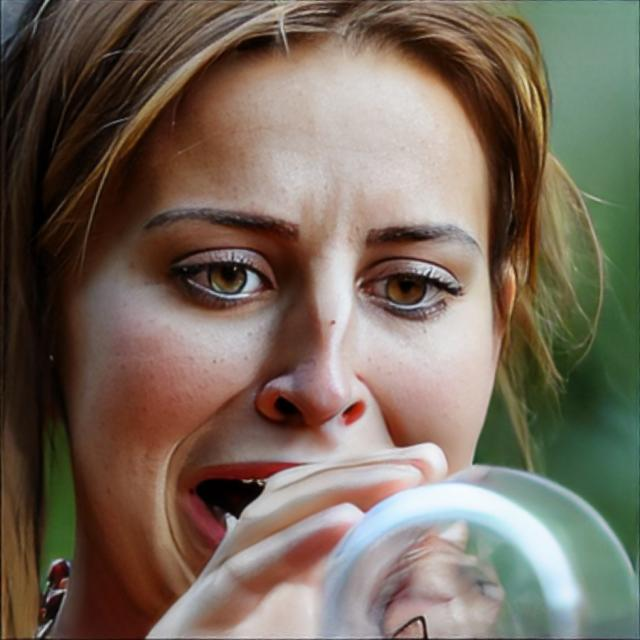fear: (61, 24, 494, 626)
